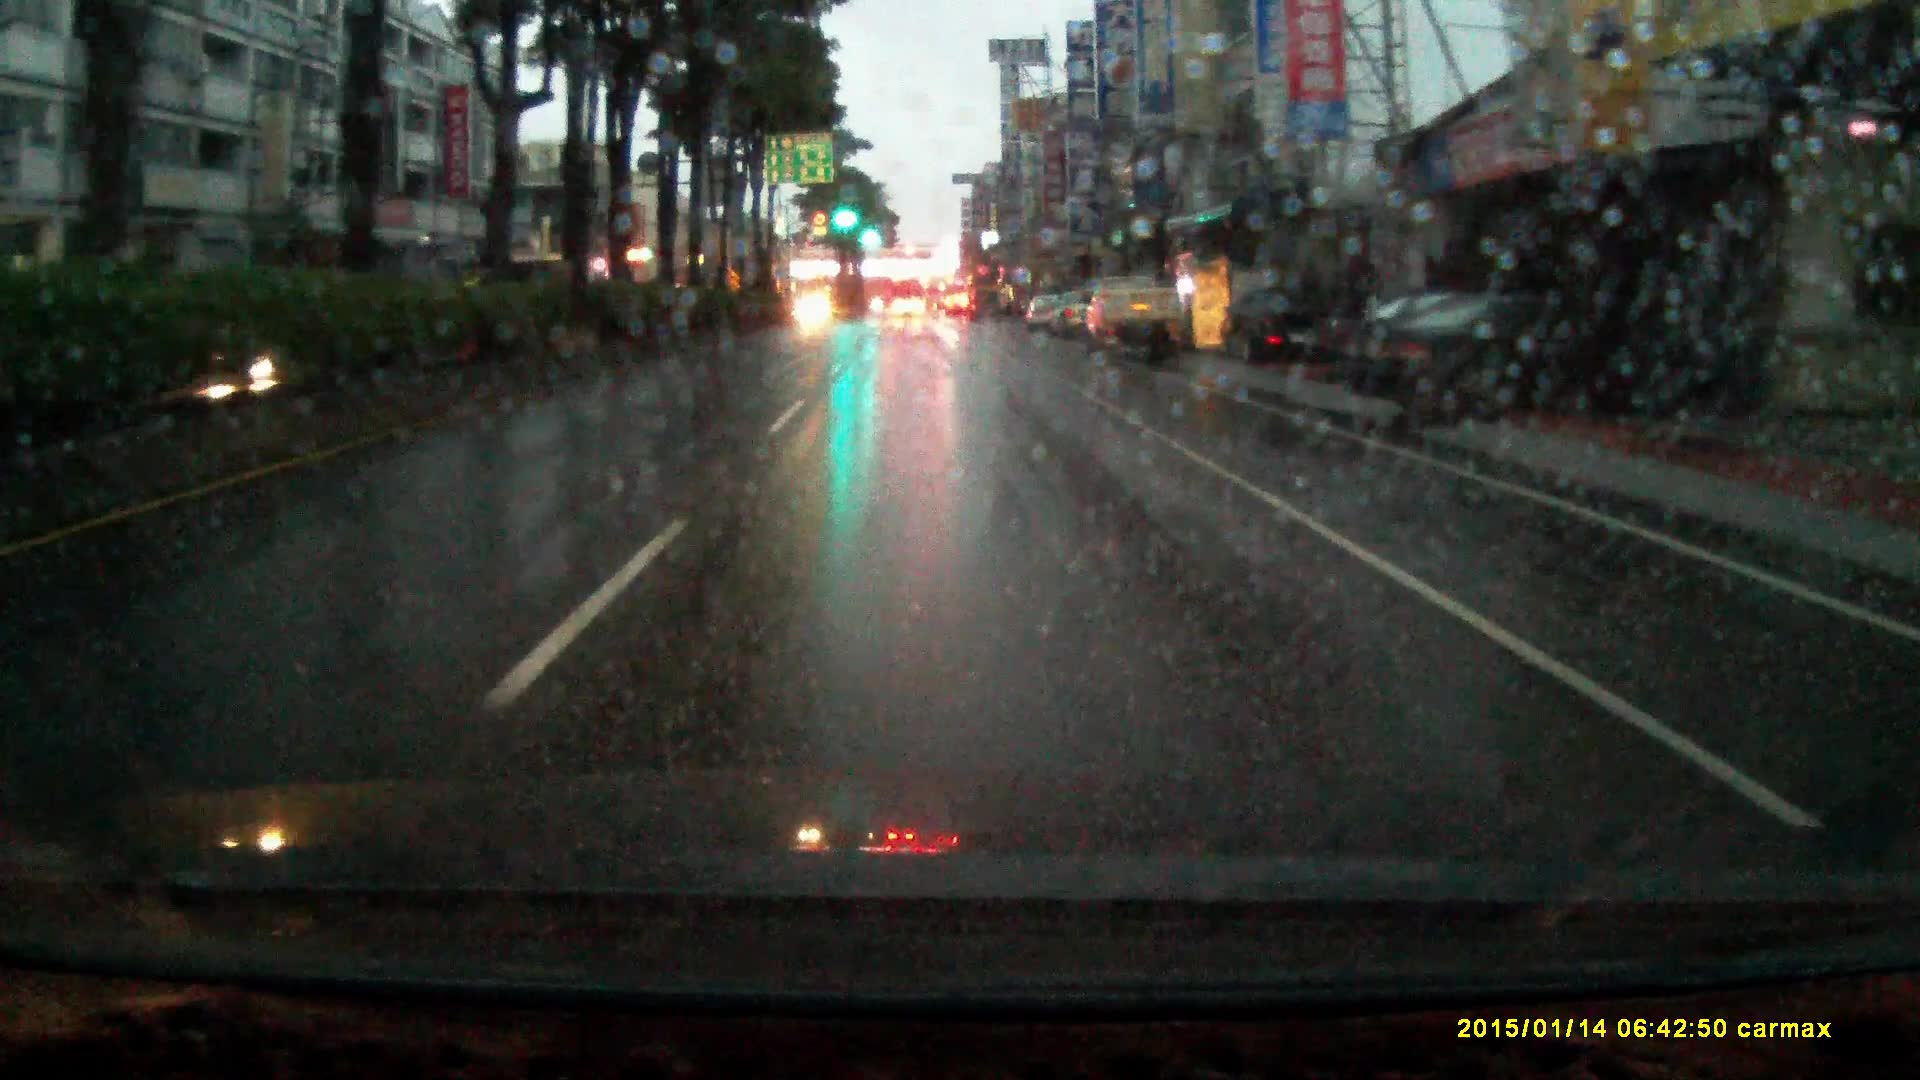vehicle: (1331, 298, 1738, 425), (1087, 273, 1184, 363), (1221, 291, 1331, 369), (1048, 290, 1095, 338), (794, 291, 836, 334), (1025, 294, 1062, 334), (891, 295, 927, 320), (926, 280, 947, 313)
